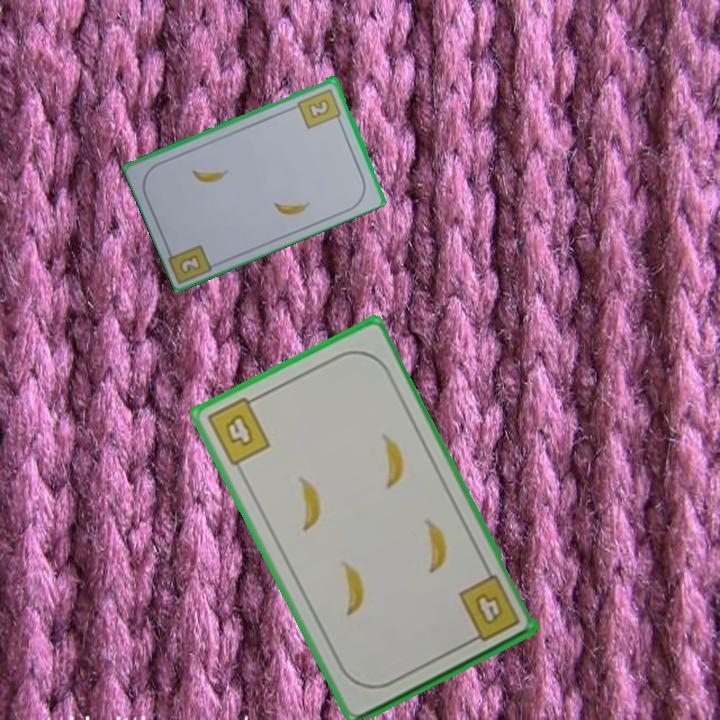2b: (294, 85, 344, 131), (176, 251, 205, 277)
4b: (202, 391, 273, 469), (454, 571, 523, 647)
